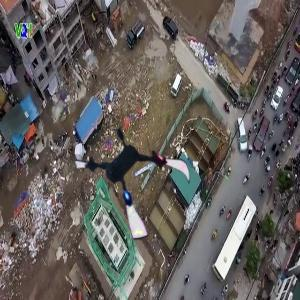drone: (76, 118, 198, 240)
